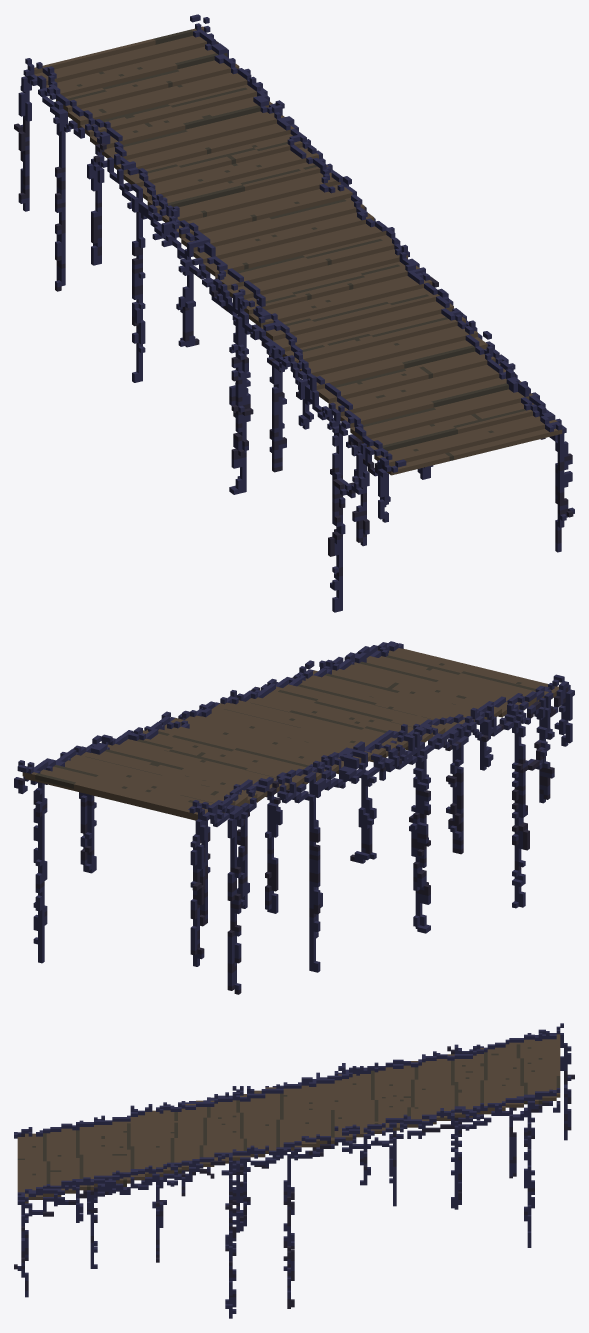
The model's file is passerelle.obj.
The picture shows the model from 3 angles, top to bottom: view 1: azimuth 30°, elevation 25°; view 2: azimuth 150°, elevation 25°; view 3: azimuth 270°, elevation 25°; orthographic projection. The views are drawn at different scales.
Size of the model in its own units: 4.8 by 7.4 by 15.4.
Materials: 1 (1 with a texture image).
